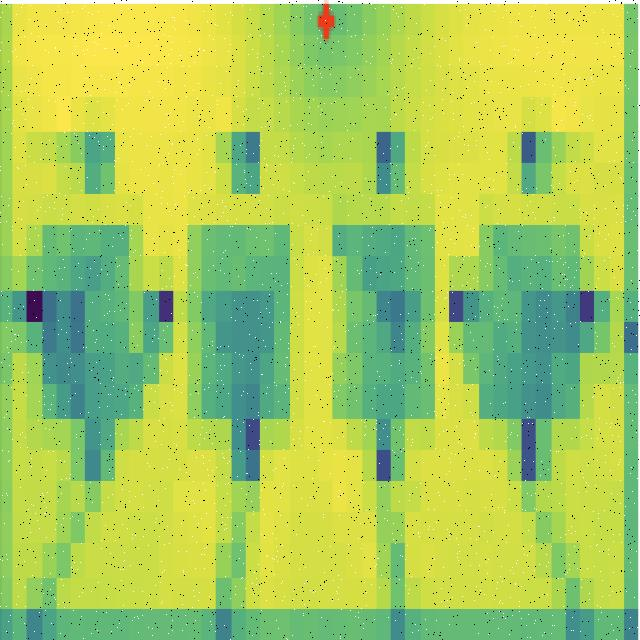Concrete: (182, 208, 302, 448)
Glass: (30, 205, 160, 492)
Metal: (323, 204, 443, 448)
Wood: (470, 175, 584, 447)
